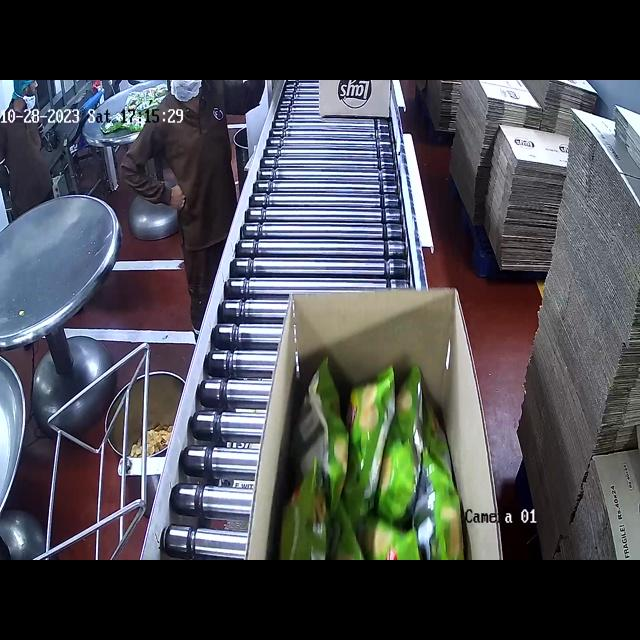yogurt: (279, 356, 464, 559)
